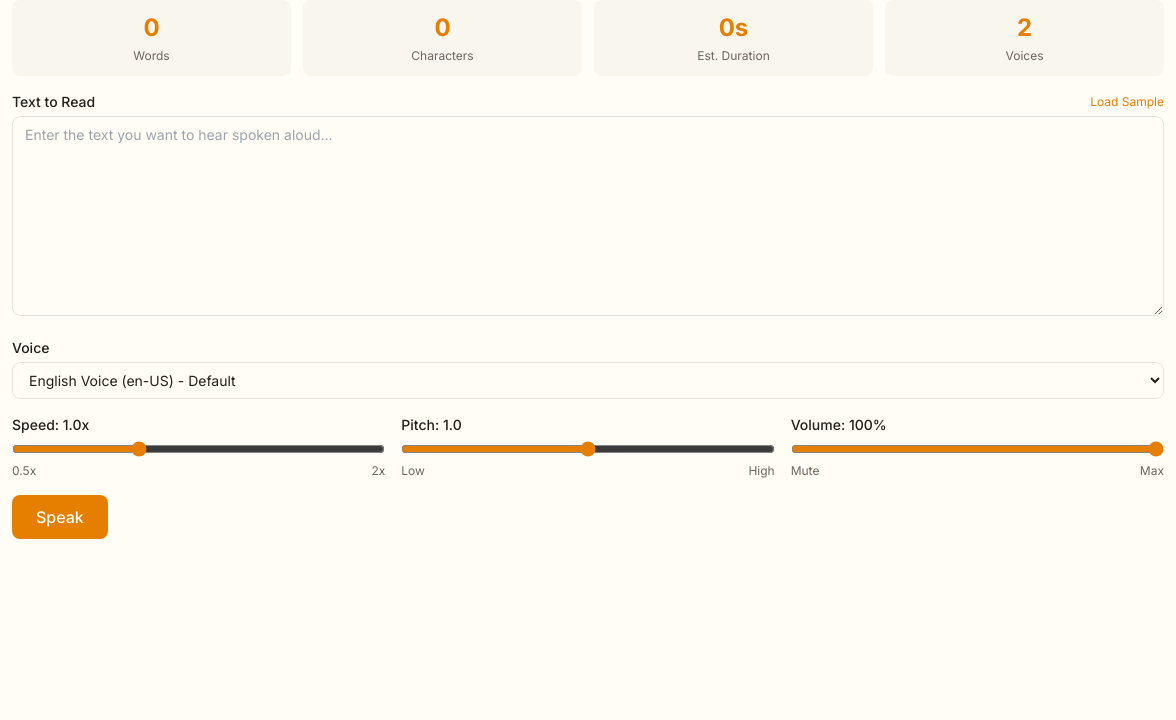
Test: TextToSpeech › shows Clear button only when text is entered and not speaking
Expected: the text "Clear" is not shown
Type "Some text" into the text box named "Text to speak" at (588,216), box x1=12 y1=116 x2=1164 y2=316
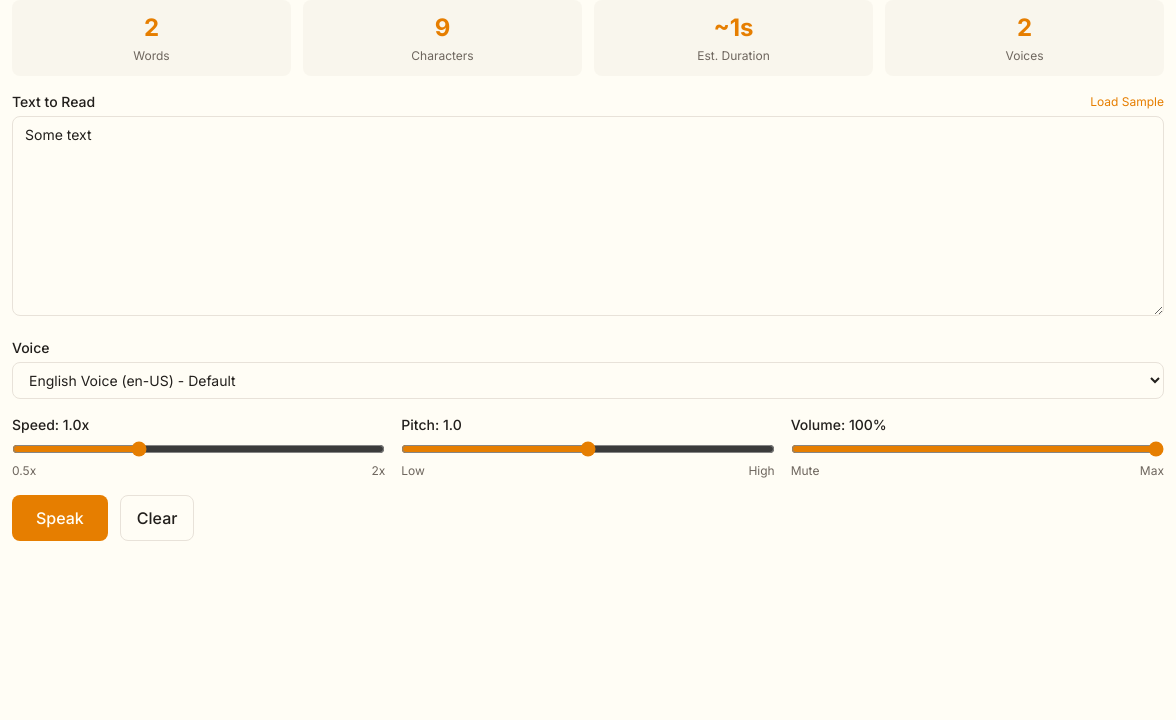
Expected: the button "Clear" is shown, x1=120 y1=495 x2=194 y2=541
